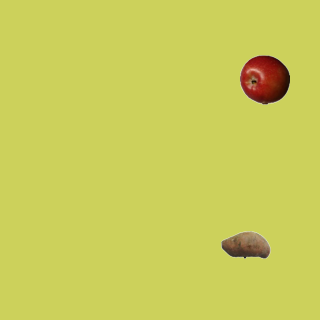Apple Braeburn: (239, 54, 289, 104)
Potato Sweet: (220, 219, 270, 269)
